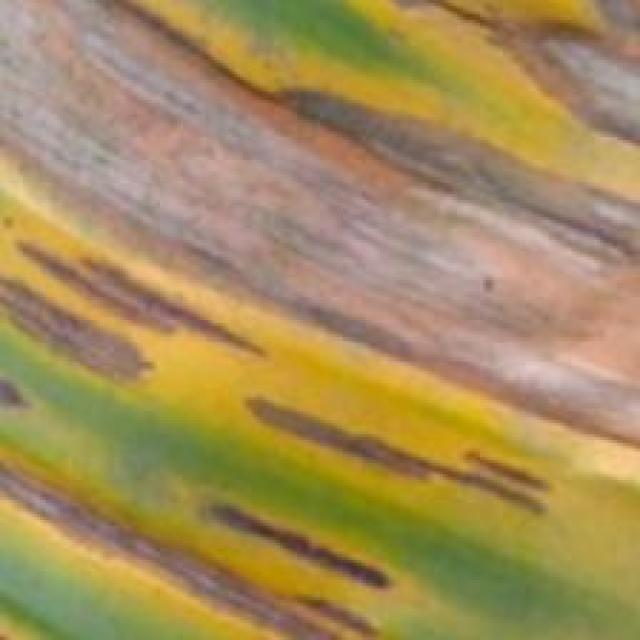Early_leaf_spot: (0, 0, 637, 477), (0, 417, 389, 640), (232, 357, 554, 527), (0, 248, 282, 398), (190, 482, 408, 598)
